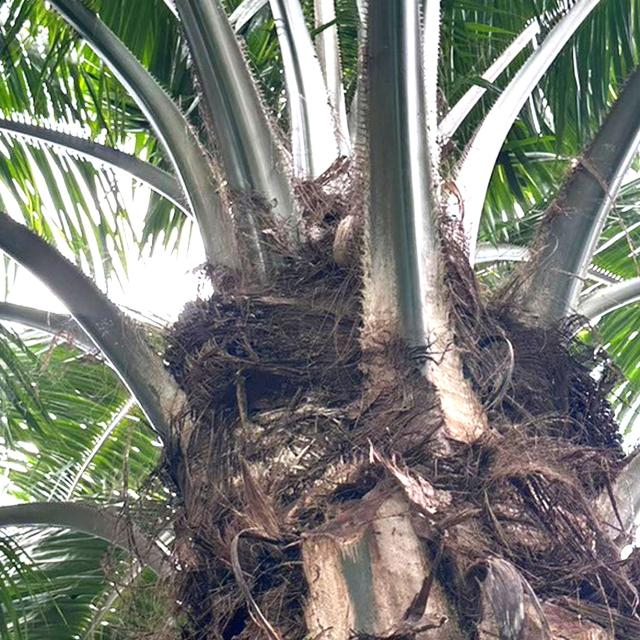unripe: (506, 337, 638, 503), (159, 282, 304, 416)
